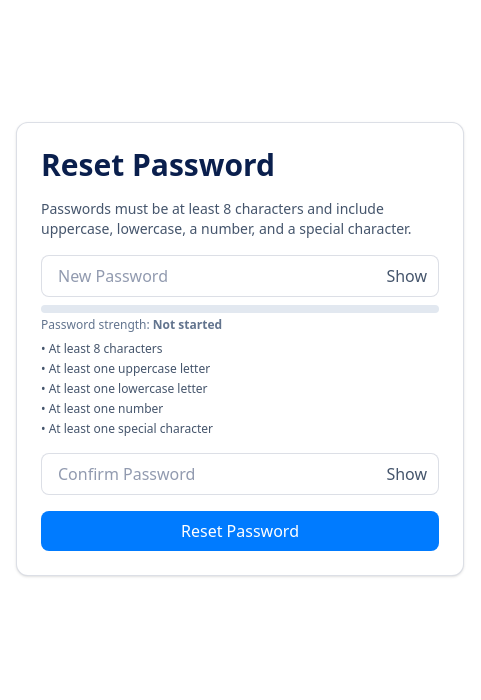
Test: ResetPasswordPage › shows a validation error when the password is missing
Type "Password123!" into the password field with placeholder "Confirm Password" at (240, 474), box [41,453,439,495]
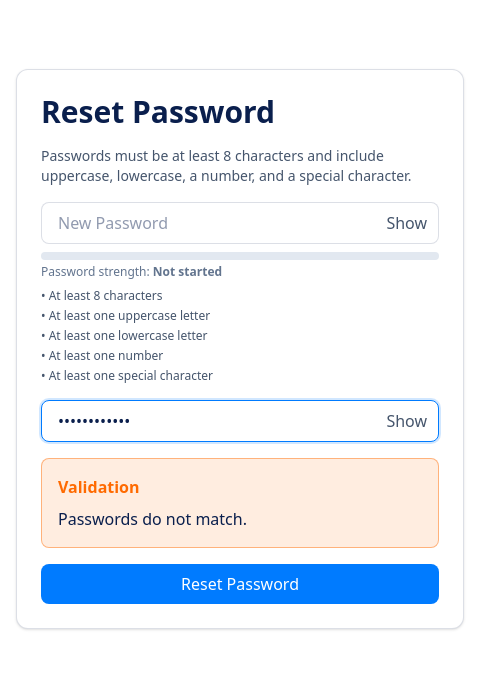
Click the button "Reset Password" at (240, 584), box [41,564,439,604]
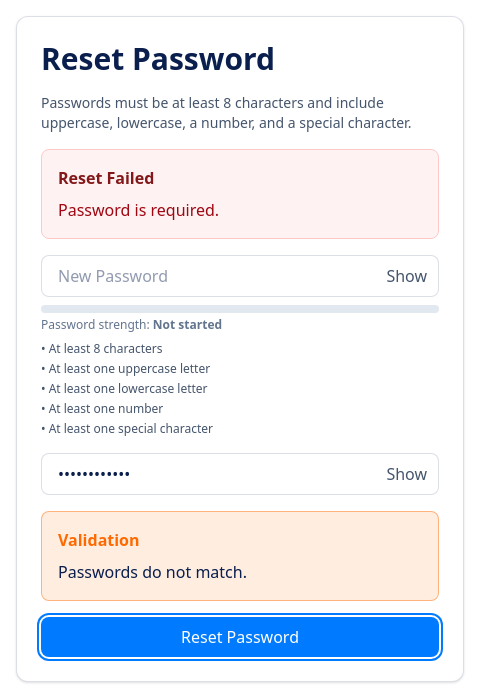
Expected: the text "Password is required." is shown, [58,199,219,221]
